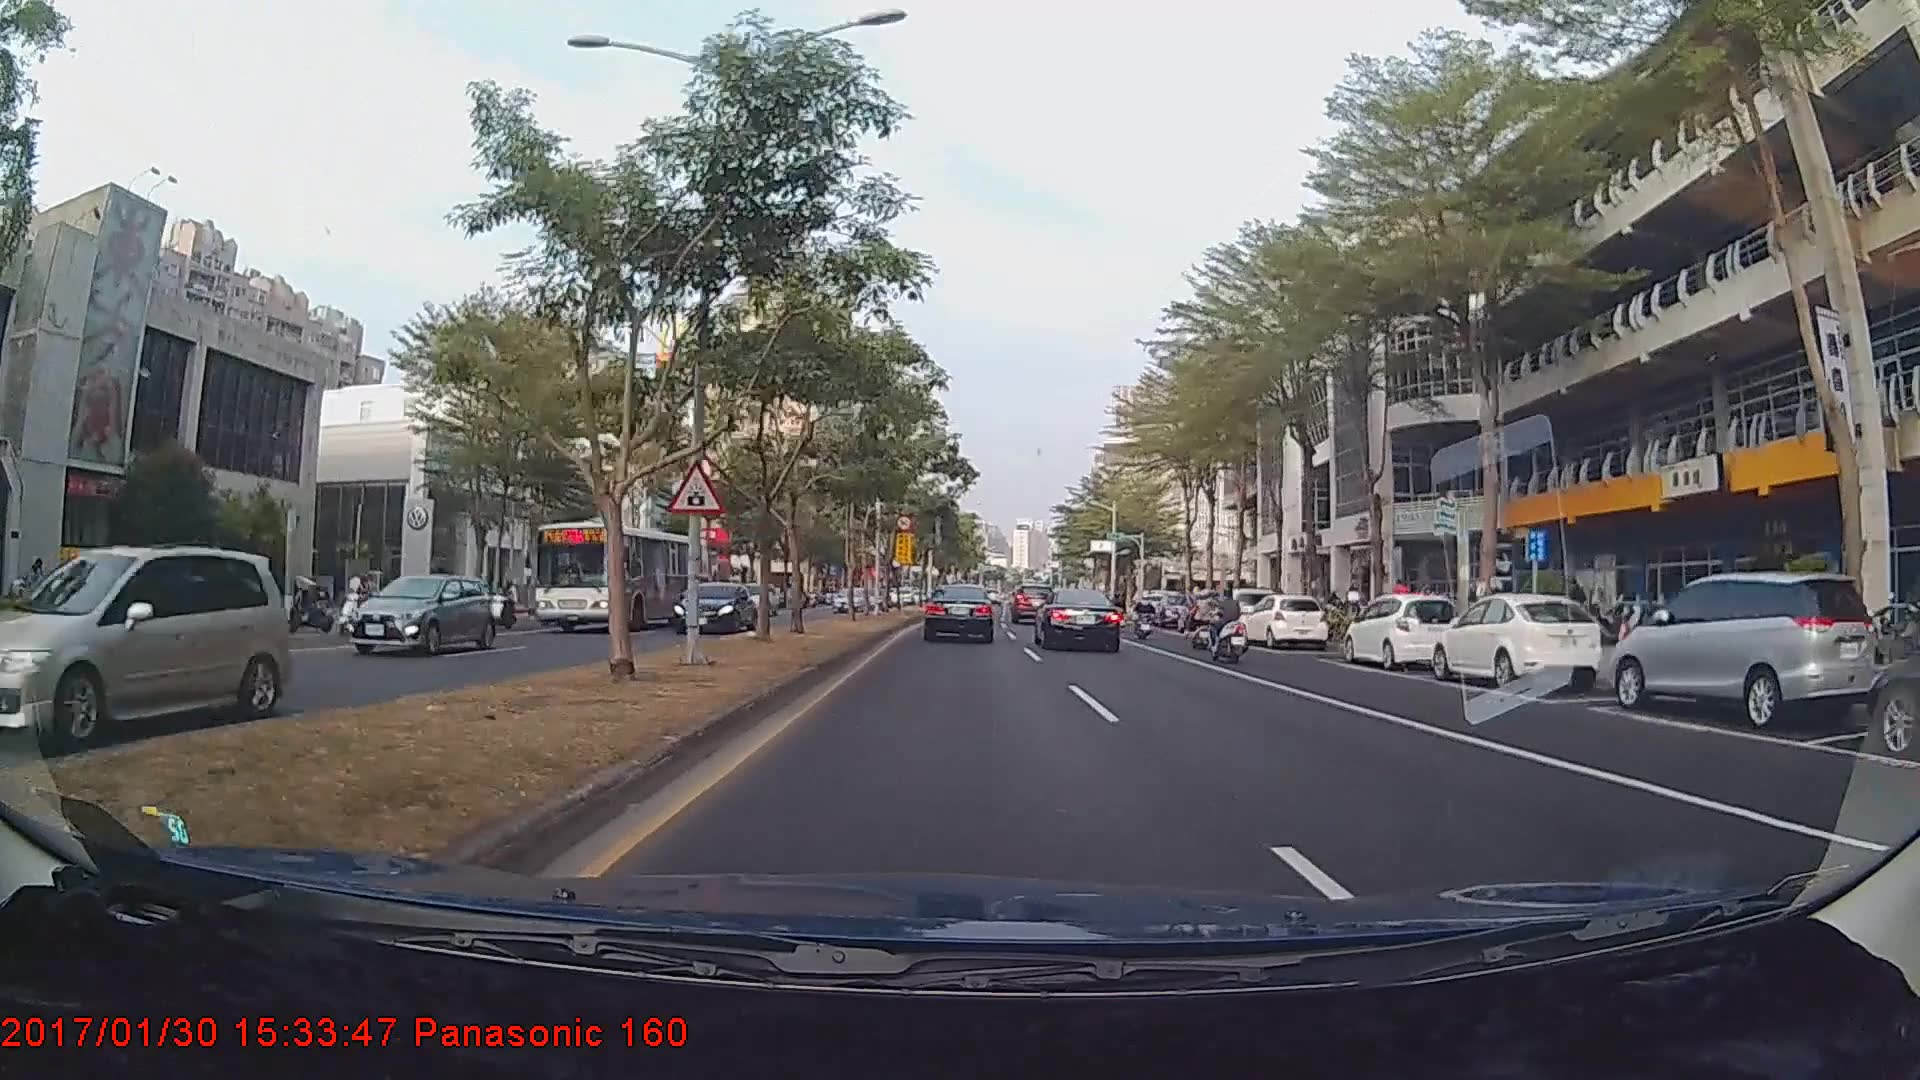rider: (1204, 582, 1255, 667), (1189, 590, 1229, 650), (1134, 586, 1159, 642)
vehicle: (0, 546, 294, 744), (1609, 569, 1877, 727), (531, 520, 714, 634), (1429, 591, 1604, 689), (345, 573, 497, 656), (1343, 592, 1463, 669), (1866, 598, 1920, 753), (1034, 587, 1124, 653), (1241, 592, 1331, 649), (671, 578, 757, 634), (922, 581, 997, 644), (1193, 582, 1276, 635), (730, 581, 779, 618), (1010, 584, 1054, 622), (829, 582, 869, 609)
